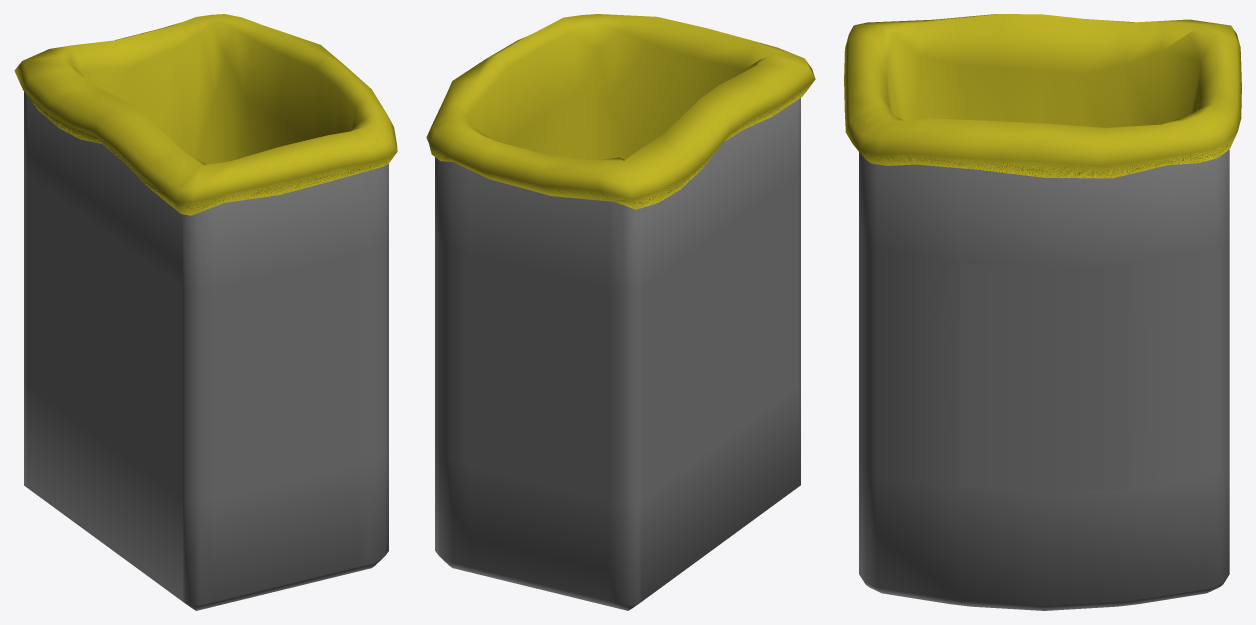
The model's file is poubelle_jaune.fbx.
3 renders of one model, left to right at view 1: azimuth 30°, elevation 25°; view 2: azimuth 150°, elevation 25°; view 3: azimuth 270°, elevation 25°, orthographic. The views are drawn at different scales.
Visible parts, largest first — view 1: poubelle, sac poubelle; view 2: poubelle, sac poubelle; view 3: poubelle, sac poubelle.
Part boxes in pixels (x1,y1,x2,y2): poubelle: (24,91,388,610); sac poubelle: (14,14,397,215); poubelle: (435,98,800,610); sac poubelle: (426,14,815,209); poubelle: (859,123,1229,610); sac poubelle: (844,14,1241,178).
Size of the model in its own units: 63.45 by 105 by 77.58.
